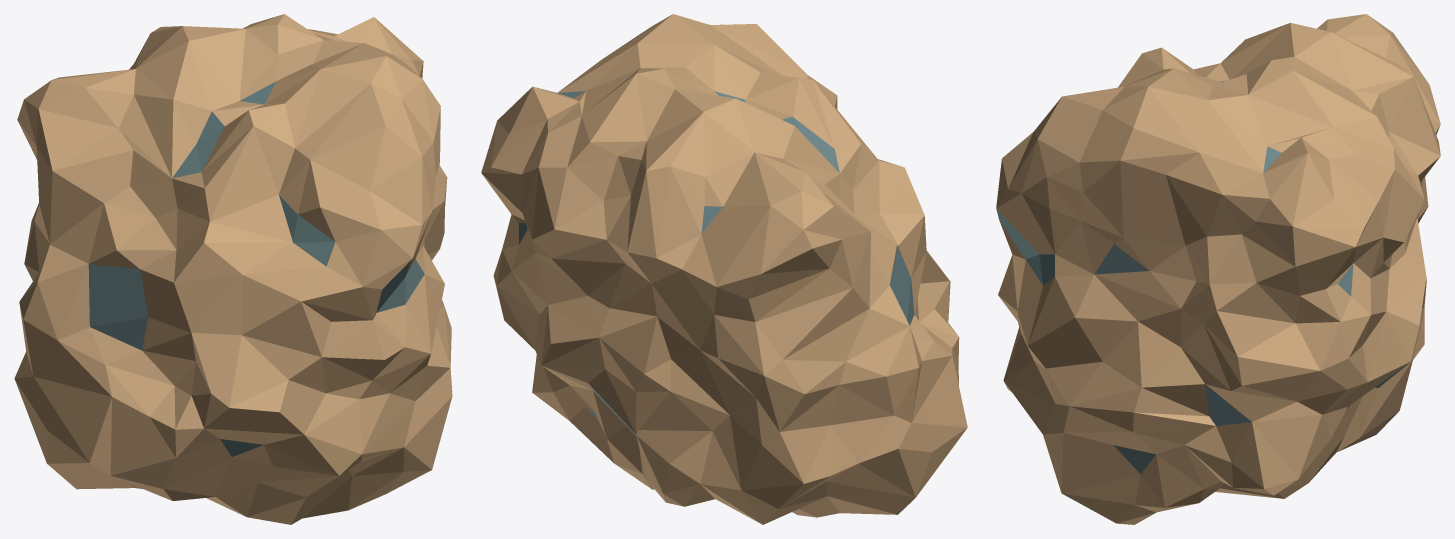
File: SM_LP_MetalNode_6.fbx
3 views of the same model, side by side, from view 1: azimuth 30°, elevation 25°; view 2: azimuth 150°, elevation 25°; view 3: azimuth 270°, elevation 25° (orthographic). The views are drawn at different scales.
Visible parts, largest first — view 1: SM_LP_MetalNode_6; view 2: SM_LP_MetalNode_6; view 3: SM_LP_MetalNode_6.
Part boxes in pixels (left/top/right/bottom): SM_LP_MetalNode_6: left=14, top=14, right=452, bottom=524; SM_LP_MetalNode_6: left=481, top=14, right=967, bottom=524; SM_LP_MetalNode_6: left=996, top=14, right=1440, bottom=524.
Bounding box in the file's own units: 0.8889 × 0.9118 × 0.7955.
